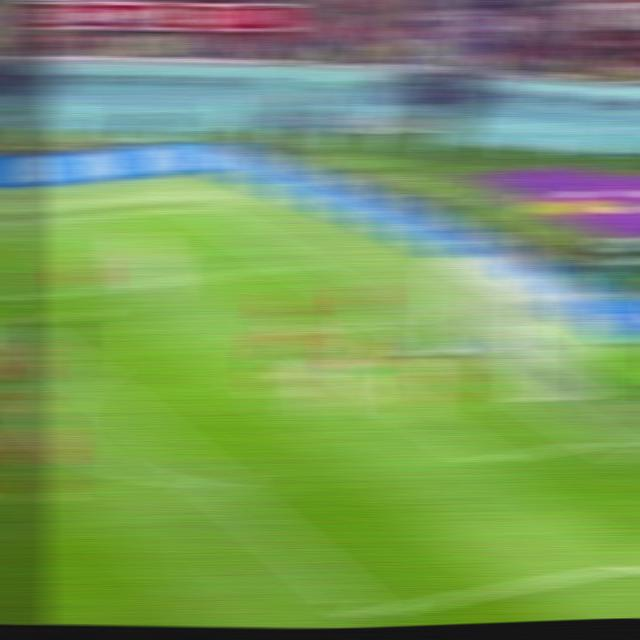bigarea_bottom_inner: (343, 587, 402, 628)
bigarea_top_outter: (276, 256, 315, 273)
bottom_arc_area_intersection: (193, 468, 243, 503)
corner: (176, 203, 213, 214)
smallarea_bottom_inner: (467, 443, 511, 477)
smallarea_bottom_outter: (581, 429, 622, 453)
smallarea_top_outter: (376, 311, 414, 329)
top_arc_area_intersection: (65, 365, 105, 389)
